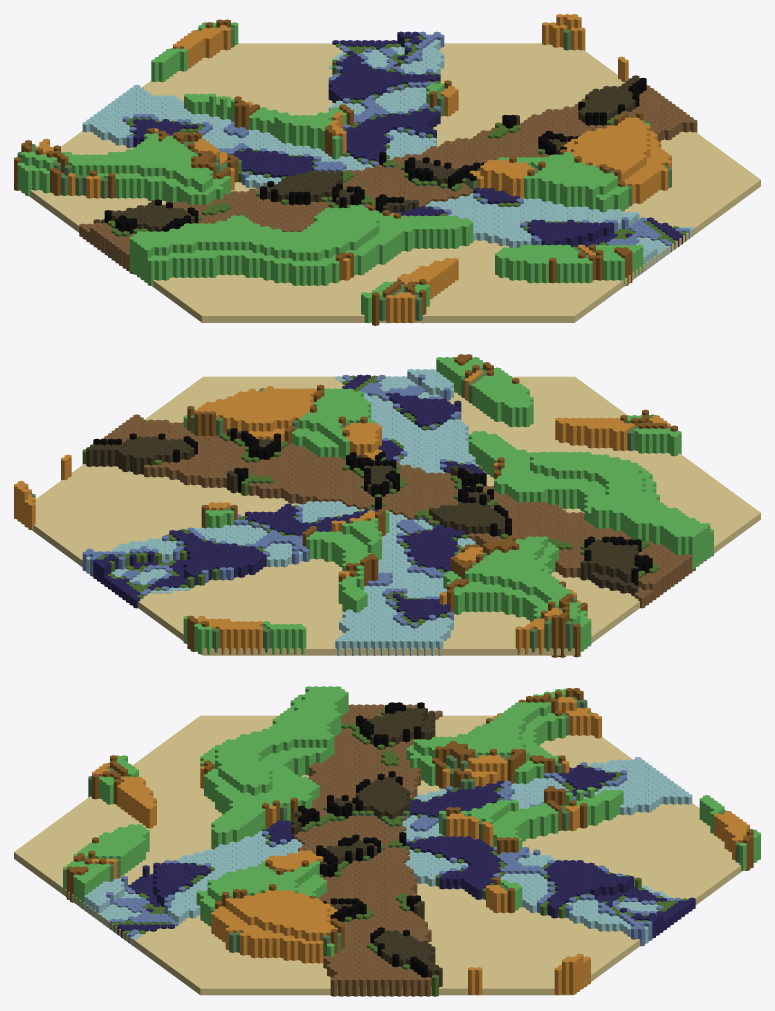
The model's file is 0050_tile_1210010.fbx.
3 renders of one model, top to bottom at view 1: azimuth 30°, elevation 25°; view 2: azimuth 150°, elevation 25°; view 3: azimuth 270°, elevation 25°, orthographic.
Parts seen in each view (by area): view 1: Plane; view 2: Plane; view 3: Plane.
Part boxes in pixels (left/top/right/bottom): Plane: left=14, top=14, right=760, bottom=325; Plane: left=14, top=354, right=760, bottom=657; Plane: left=14, top=686, right=760, bottom=996.
Size of the model in its own units: 1008 by 67.91 by 1152.
